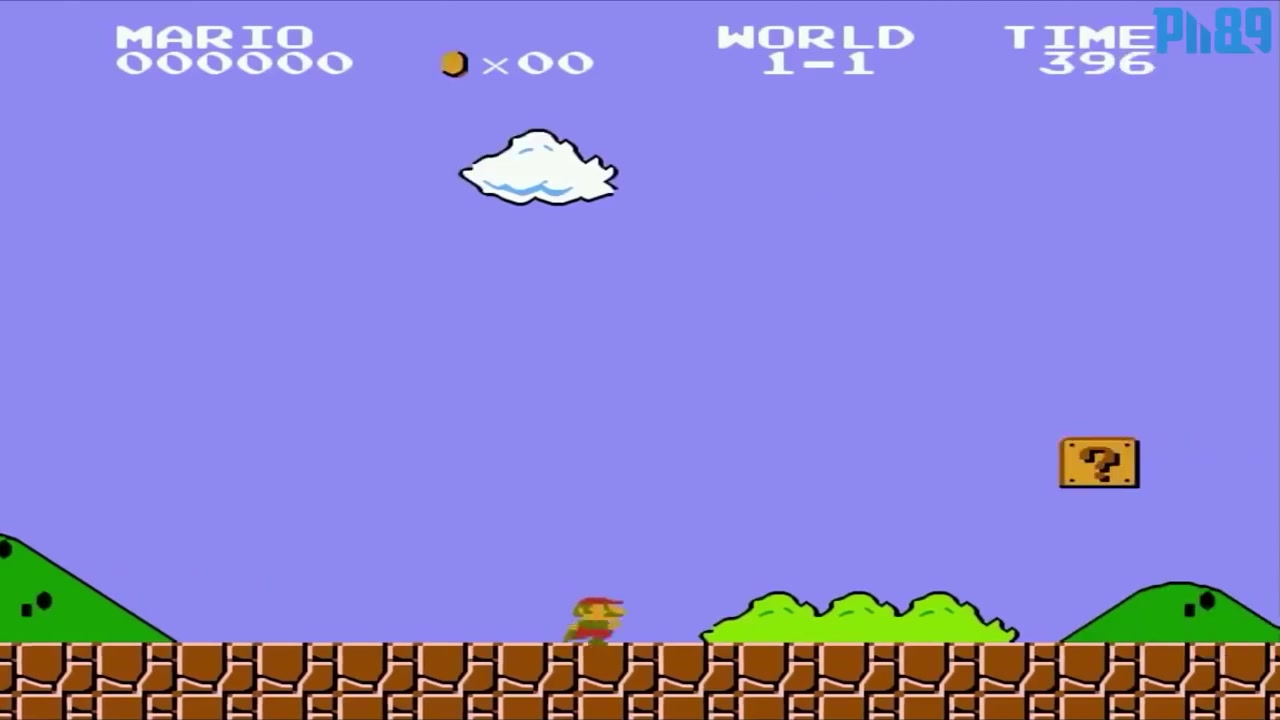mario: (554, 585, 638, 648)
